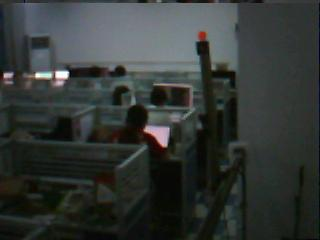oball: (197, 30, 208, 39)
